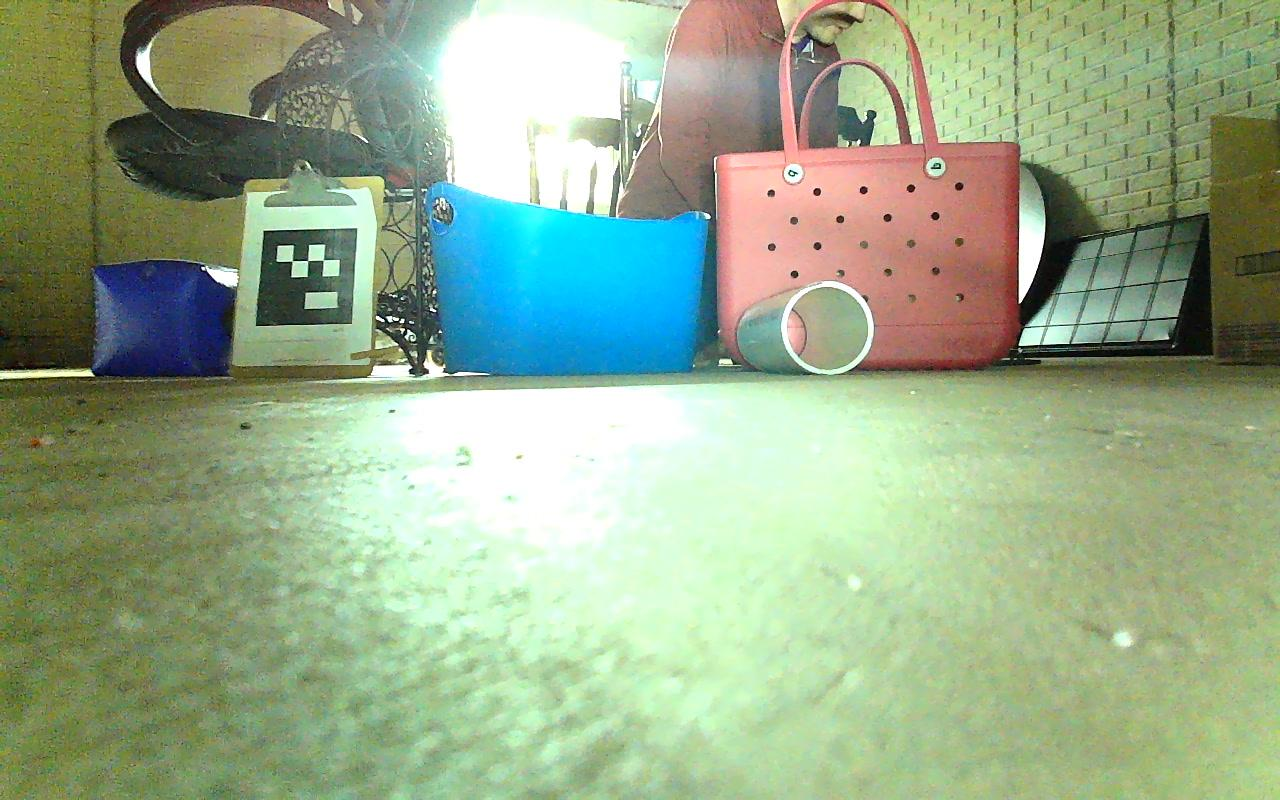coral: (737, 280, 877, 375)
